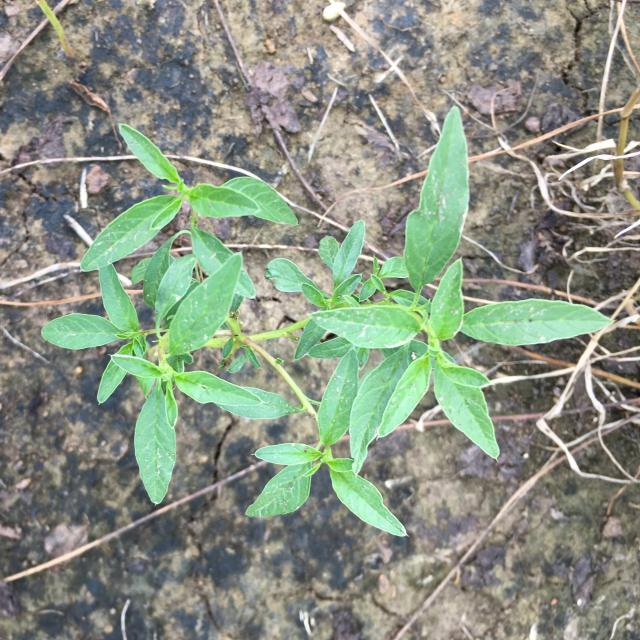Waterhemp: (41, 105, 614, 537)
